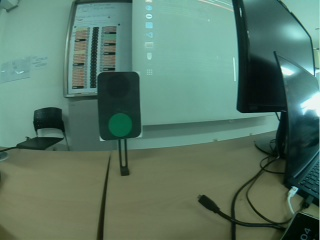green_light: (96, 70, 144, 140)
